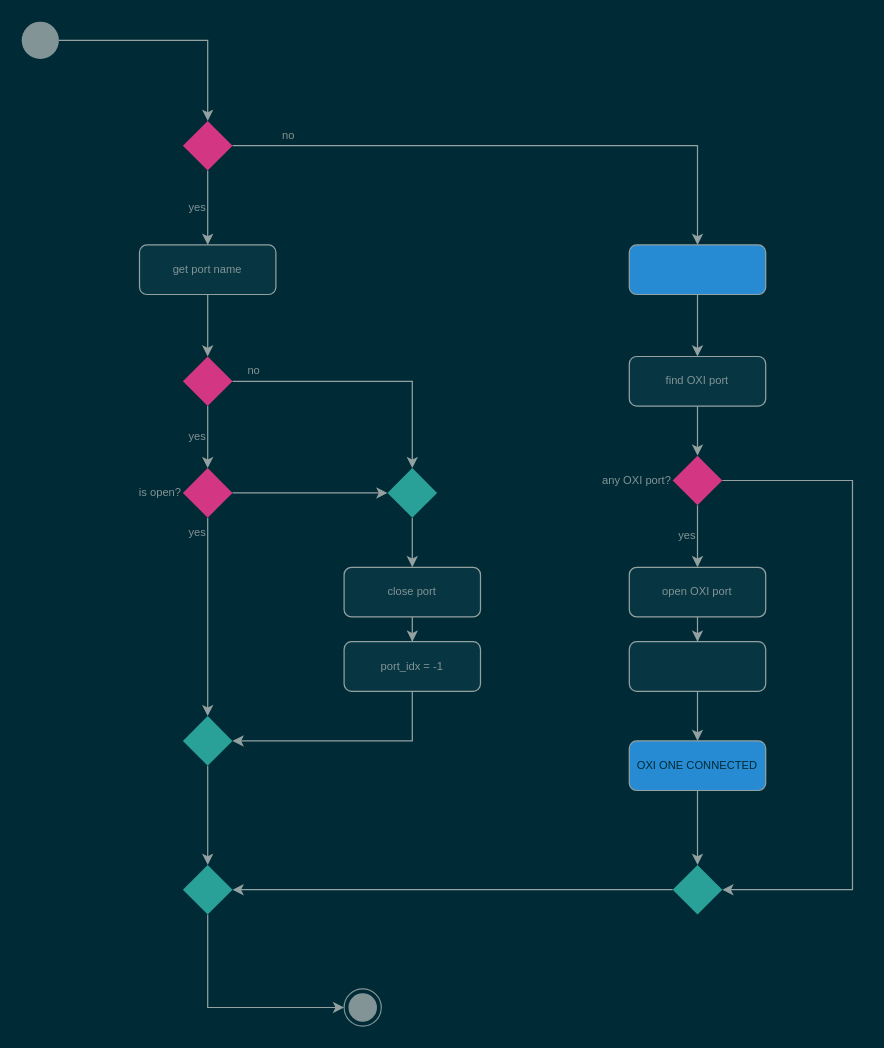
Some shapes in this 884 by 1048 pixel diagram are drawn without their labels. Here are the shapes that lost their labels. From the top down, the centre of each, then its label:
At point 207,145: "port_idx >= 0".
At point 697,269: "CONNECT YOUR OXI ONE".
At point 207,380: "is OXI port?".
At point 697,665: "port_idx = <idx>".
